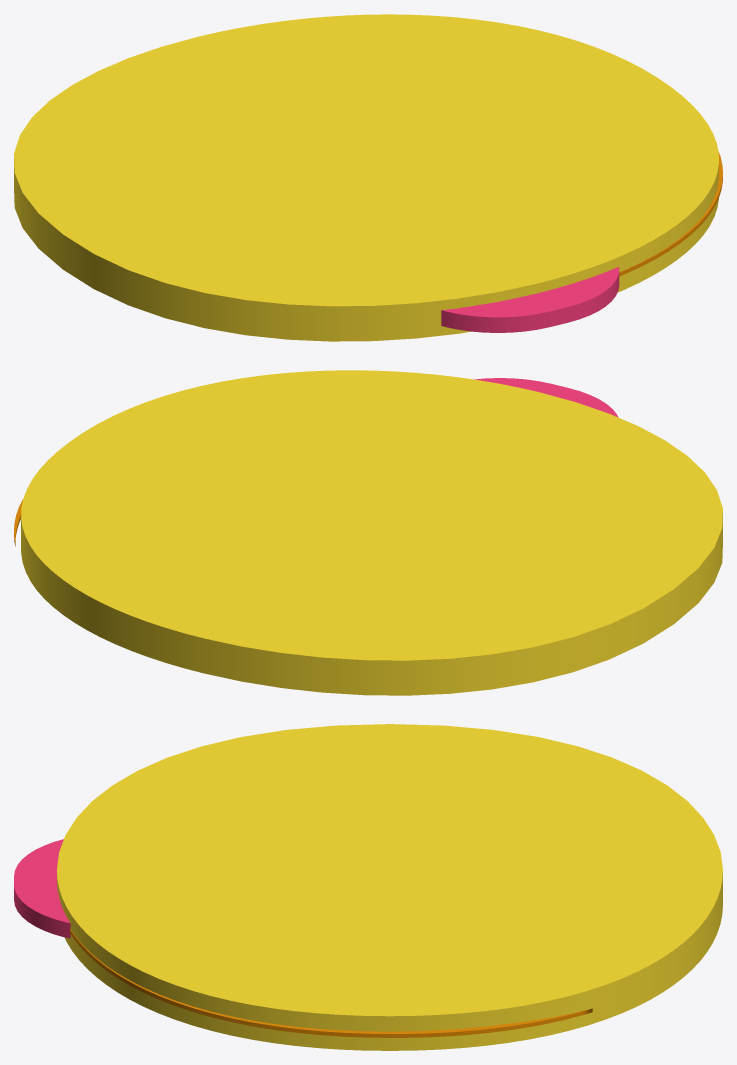
The model's file is emoji_u1f61d.glb.
3 views of the same model, one above another, from view 1: azimuth 30°, elevation 25°; view 2: azimuth 150°, elevation 25°; view 3: azimuth 270°, elevation 25° (orthographic).
Parts seen in each view (by area): view 1: emoji_u1f61d; view 2: emoji_u1f61d; view 3: emoji_u1f61d.
Part boxes in pixels (x1=…): emoji_u1f61d: x1=14, y1=14, x2=722, y2=341; emoji_u1f61d: x1=14, y1=370, x2=722, y2=695; emoji_u1f61d: x1=14, y1=724, x2=722, y2=1050.
Size of the model in its own units: 0.0328 by 0.0018 by 0.0333.
